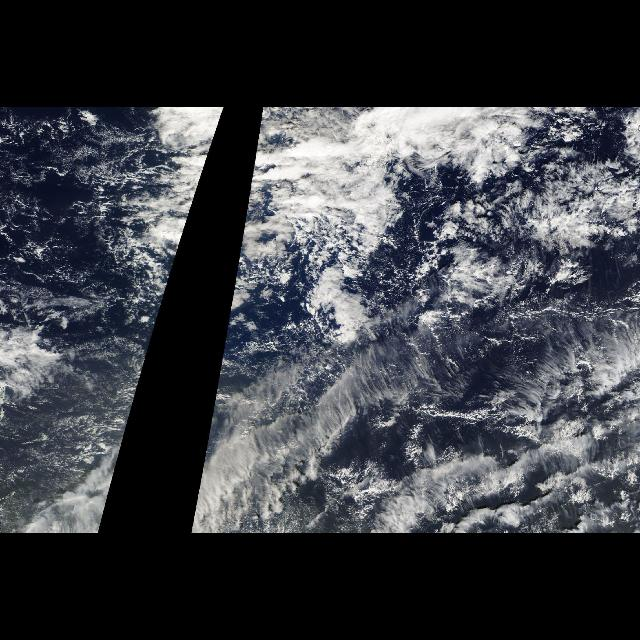Sugar: (447, 114, 631, 320)
